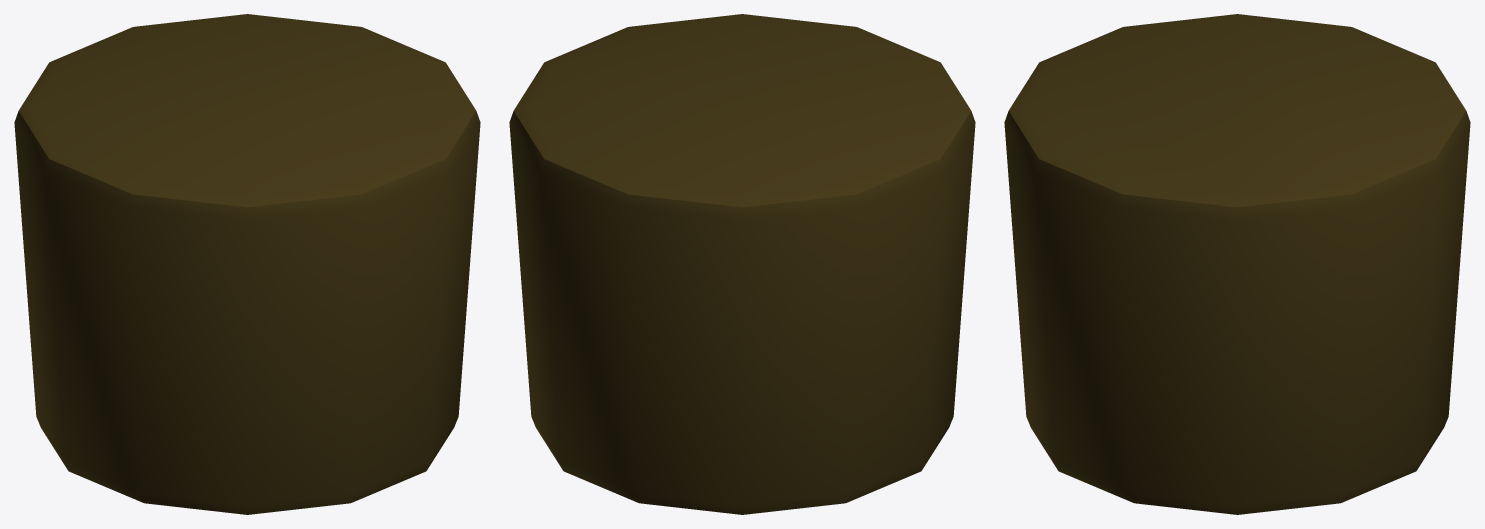
Rendered from BottlePlug_2.fbx.
The picture shows the model from 3 angles, left to right: view 1: azimuth 30°, elevation 25°; view 2: azimuth 150°, elevation 25°; view 3: azimuth 270°, elevation 25°; orthographic projection.
Parts seen in each view (by area): view 1: BottlePlug_2; view 2: BottlePlug_2; view 3: BottlePlug_2.
Part boxes in pixels (box(x1,y1,x2,y2)): BottlePlug_2: box(14, 14, 480, 514); BottlePlug_2: box(509, 14, 975, 514); BottlePlug_2: box(1004, 14, 1470, 514).
Bounding box in the file's own units: 4.13 × 3.18 × 4.13.
